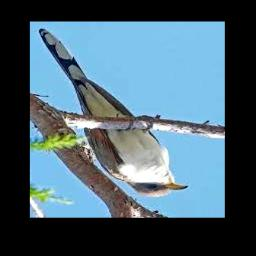Cuckoo: (39, 29, 190, 198)
